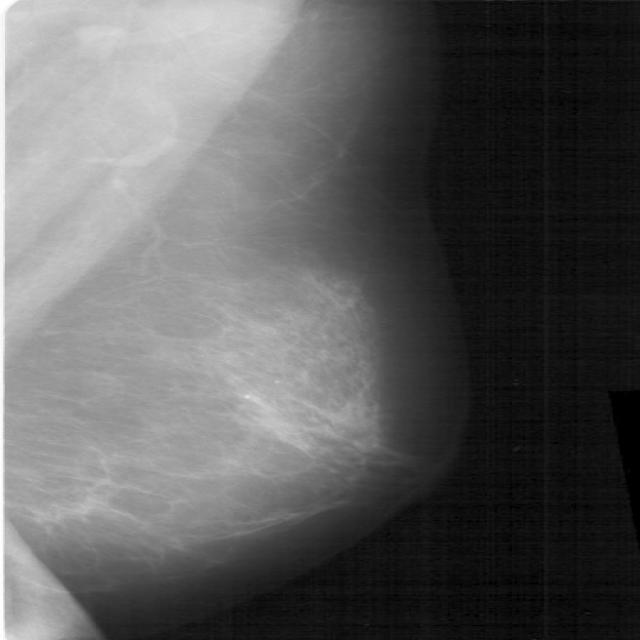tumour: (29, 486, 111, 525)
